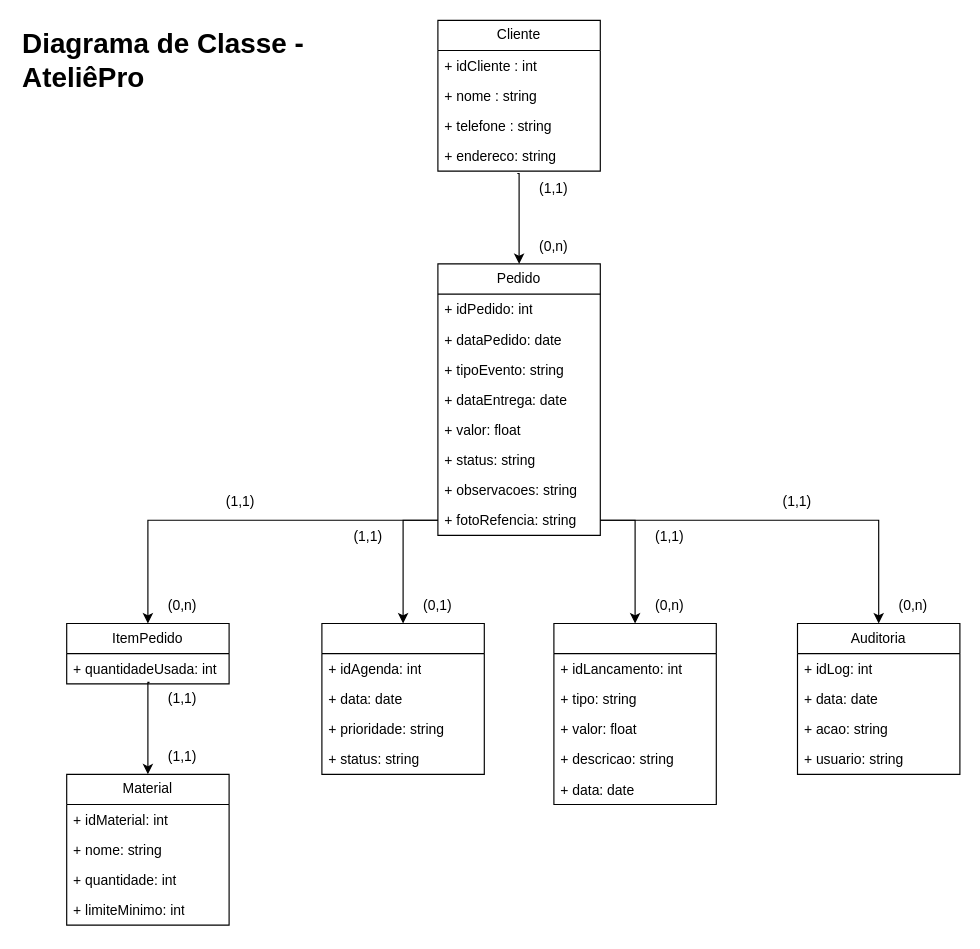
The diagram is 980 pixels wide and 949 high, and some of its shapes have lost their labels. The shapes that lost their labels are listed below. From the top down, each one's box as (x1, y1, x2, y2) in pixels, then its label:
(321, 622, 484, 774): AgendaEntrega
(553, 622, 716, 804): Financeiro
